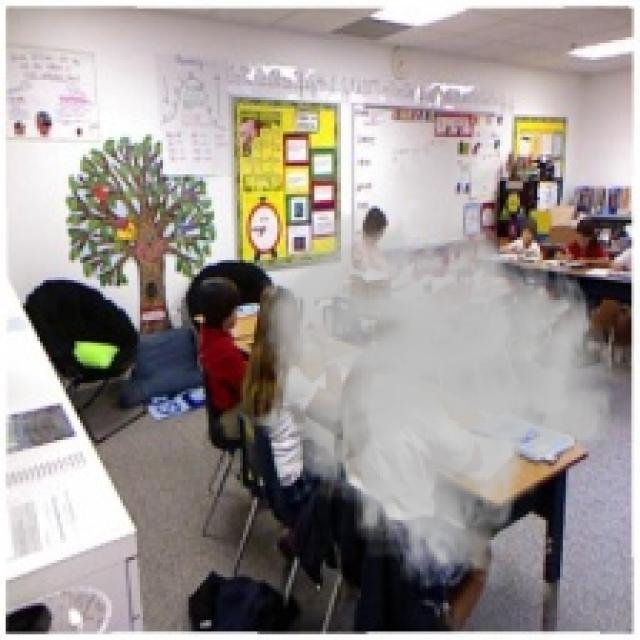Smoke: (257, 202, 617, 594)
